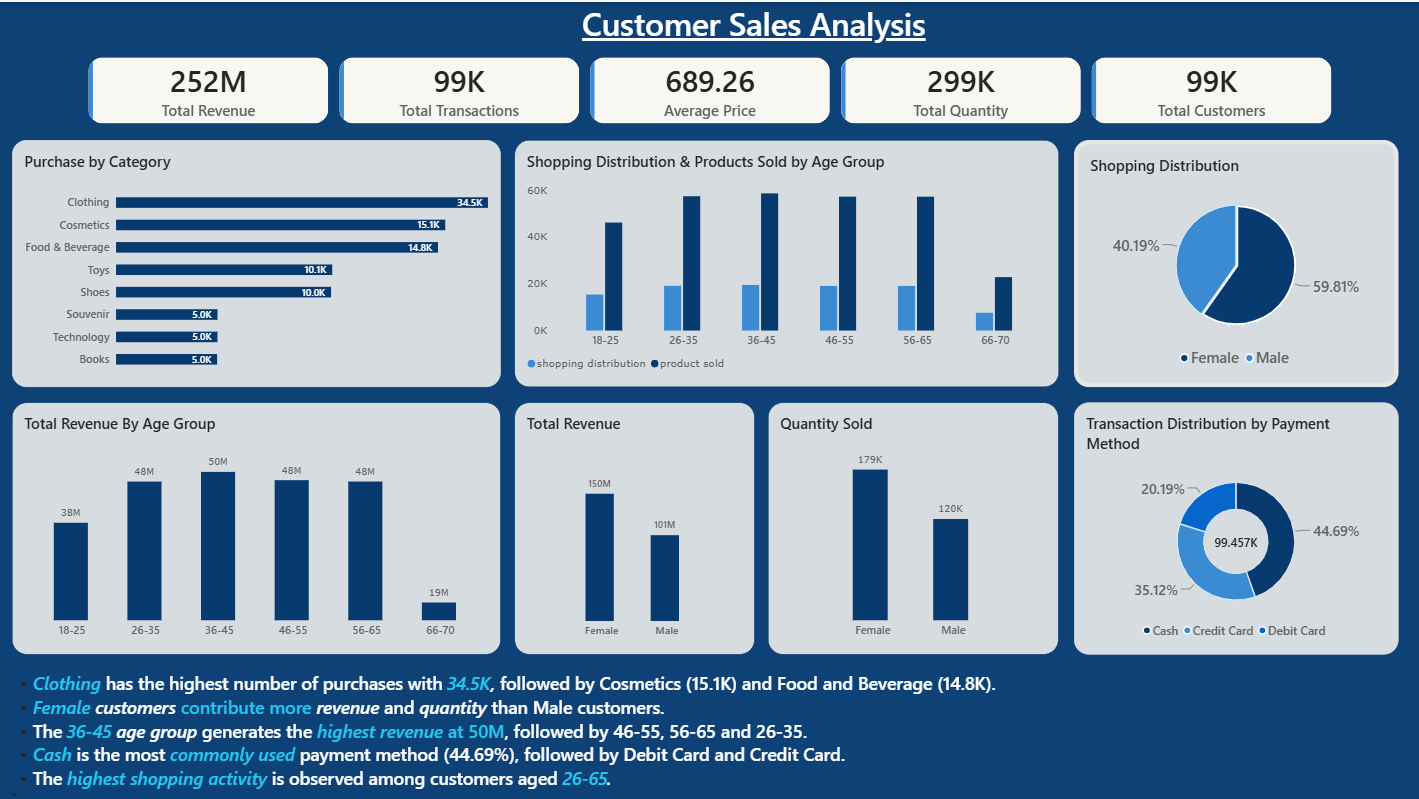

Layout of this report page (visuals, bound fields, positions):
{"tool":"powerbi","page":{"name":"Customer Sales Analysis","canvas":[1920,1080],"ordinal":0},"visuals":[{"type":"pieChart","title":"Shopping Distribution ","fields":{"Category":["project_customer_segmentation customer.gender"],"Y":["CountNonNull(project_customer_segmentation customer.invoice_no)"]},"box":[1451.4,186.2,438.4,333.9],"z":0},{"type":"clusteredBarChart","title":"Purchase by Category","fields":{"Category":["project_customer_segmentation customer.category"],"Y":["CountNonNull(project_customer_segmentation customer.invoice_no)"]},"box":[15.9,186.2,661,333.9],"z":1000},{"type":"clusteredColumnChart","title":"Shopping Distribution & Products Sold by Age Group","fields":{"Category":["project_customer_segmentation customer.age category"],"Y":["CountNonNull(project_customer_segmentation customer.invoice_no)","Sum(project_customer_segmentation customer.quantity)"]},"box":[695,186.2,735.9,333.9],"z":2000},{"type":"clusteredColumnChart","title":"Total Revenue By Age Group","fields":{"Category":["project_customer_segmentation customer.age category"],"Y":["project_customer_segmentation customer.Total Revenue"]},"box":[15.9,540.6,661,340.7],"z":3000},{"type":"donutChart","title":"Transaction Distribution by Payment Method","fields":{"Category":["project_customer_segmentation customer.payment_method"],"Y":["CountNonNull(project_customer_segmentation customer.invoice_no)"]},"box":[1451.4,540.6,438.4,340.7],"z":4000},{"type":"cardVisual","fields":{"Data":["project_customer_segmentation customer.Total Customers","project_customer_segmentation customer.Total Transactions","project_customer_segmentation customer.Total Products Sold","project_customer_segmentation customer.Average Price","project_customer_segmentation customer.Total Revenue"]},"box":[118.1,72.7,1685.3,93.1],"z":5000},{"type":"clusteredColumnChart","title":"Total Revenue","fields":{"Y":["project_customer_segmentation customer.Total Sales"],"Category":["project_customer_segmentation customer.gender"]},"box":[695,540.6,324.8,340.7],"z":6000},{"type":"clusteredColumnChart","title":"Quantity Sold ","fields":{"Y":["project_customer_segmentation customer.Total Quantity"],"Category":["project_customer_segmentation customer.gender"]},"box":[1038,540.6,392.9,340.7],"z":7000},{"type":"textbox","box":[763.2,0,513.3,281.6],"z":8000},{"type":"textbox","box":[9.1,904,1903.4,174.9],"z":9000}]}

Visuals, with their boxes in screenshot pixels (x1, y1, x2, y2), scaled from the page's 1920x1080 canvas onto the 1419x799 screenshot:
"Shopping Distribution " pieChart: bbox(1073, 138, 1397, 385)
"Purchase by Category" clusteredBarChart: bbox(12, 138, 500, 385)
"Shopping Distribution & Products Sold by Age Group" clusteredColumnChart: bbox(514, 138, 1058, 385)
"Total Revenue By Age Group" clusteredColumnChart: bbox(12, 400, 500, 652)
"Transaction Distribution by Payment Method" donutChart: bbox(1073, 400, 1397, 652)
cardVisual - project_customer_segmentation customer.Total Customers x project_customer_segmentation customer.Total Transactions: bbox(87, 54, 1333, 123)
"Total Revenue" clusteredColumnChart: bbox(514, 400, 754, 652)
"Quantity Sold " clusteredColumnChart: bbox(767, 400, 1058, 652)
textbox: bbox(564, 0, 943, 208)
textbox: bbox(7, 669, 1413, 798)
